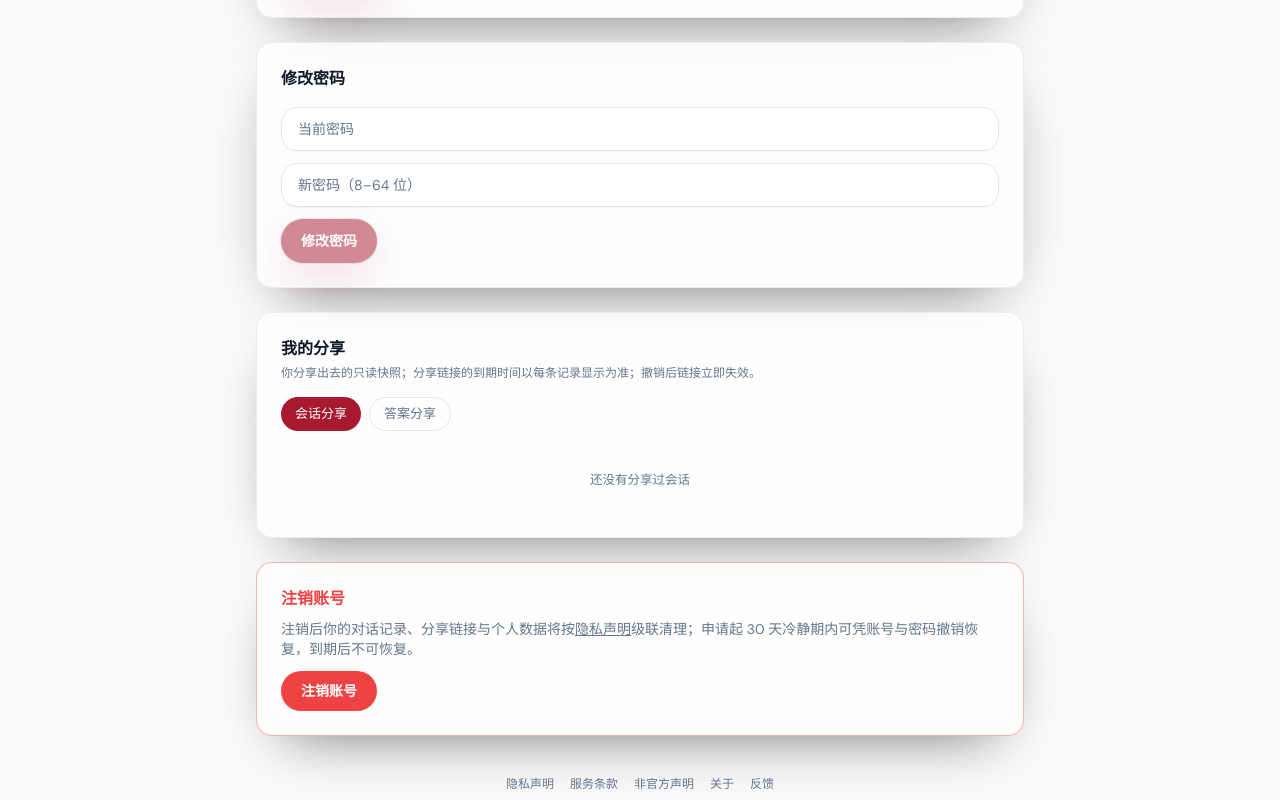
Test case: AccountPage › accessible names (#235) › names the delete-account confirmation dialog inputs and its close button (zh)
The width and height of the screenshot is (1280, 800).
(page scrolled)
Click the button with test id "delete-account" at (329,691), box [281, 671, 377, 711]
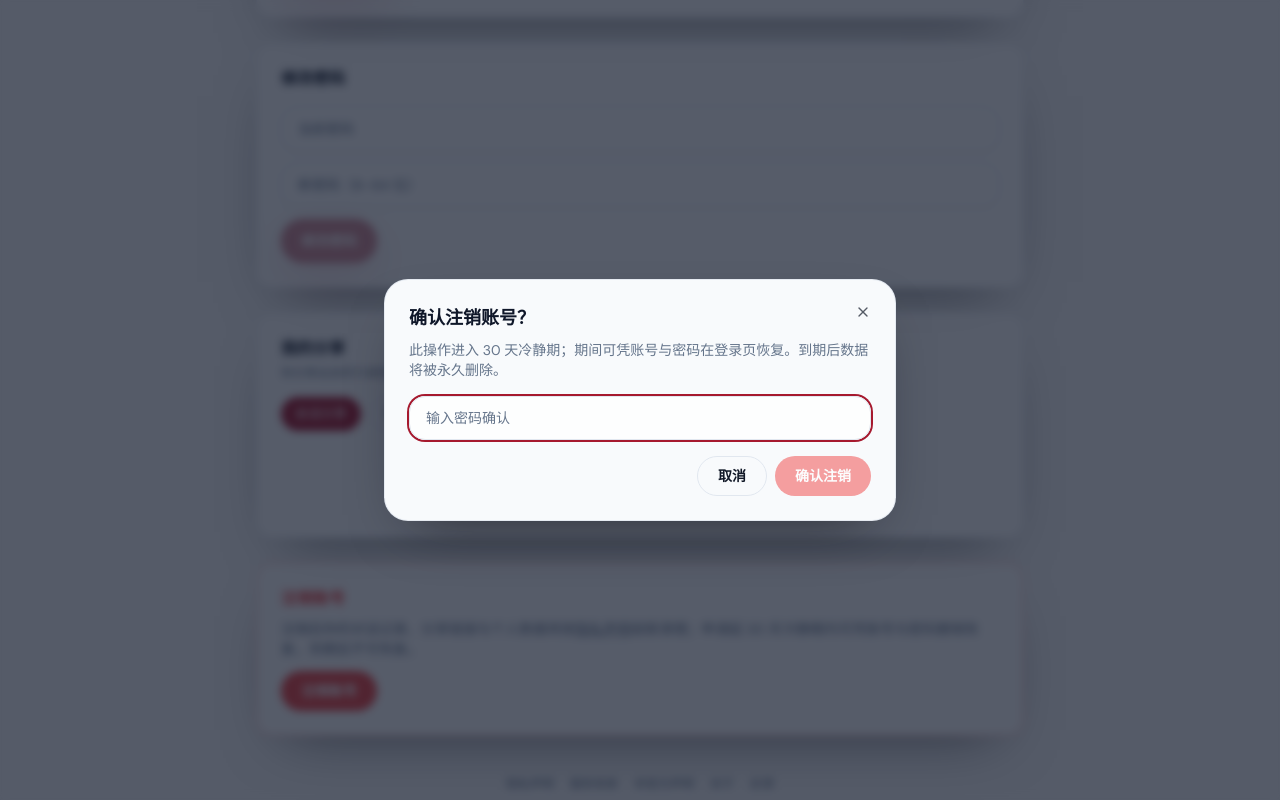
expect the button named "关闭" is shown: met, box [847, 296, 879, 328]
